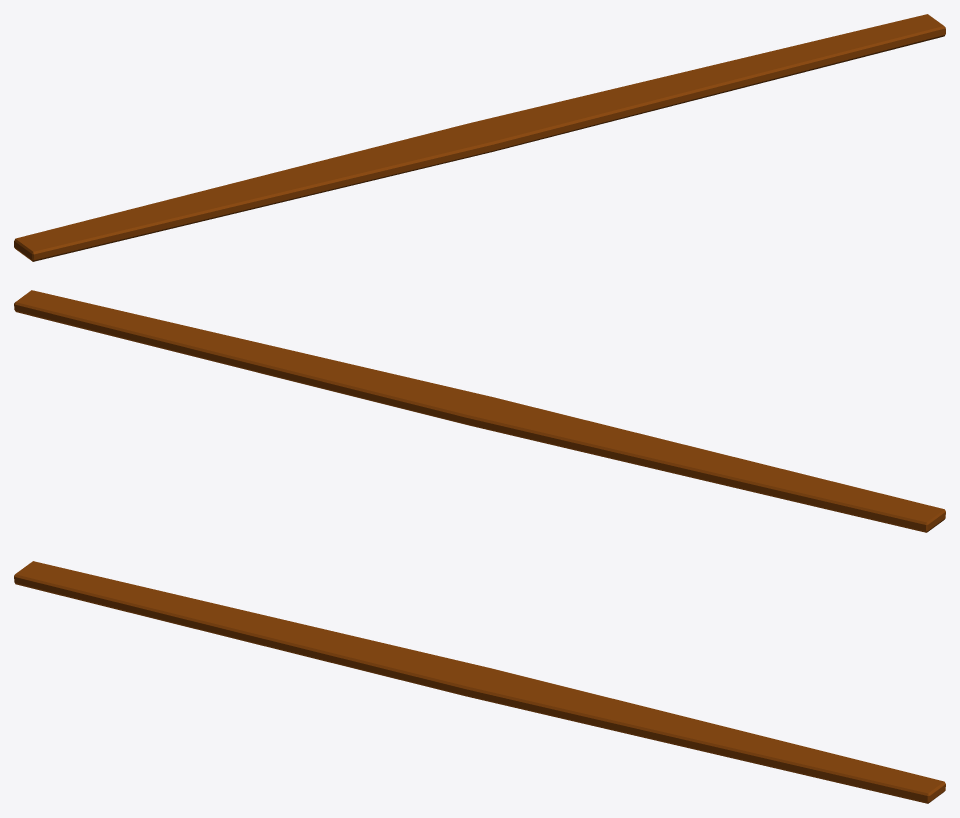
The model's file is BridgePlank02.FBX.
3 views of the same model, one above another, from view 1: azimuth 30°, elevation 25°; view 2: azimuth 150°, elevation 25°; view 3: azimuth 330°, elevation 25° (orthographic).
Visible parts, largest first — view 1: Plank002; view 2: Plank002; view 3: Plank002.
Part boxes in pixels (x1,y1,x2,y2): Plank002: (14,14,945,261); Plank002: (14,290,945,532); Plank002: (14,561,945,803).
Size of the model in its own units: 462 by 5 by 23.41.
